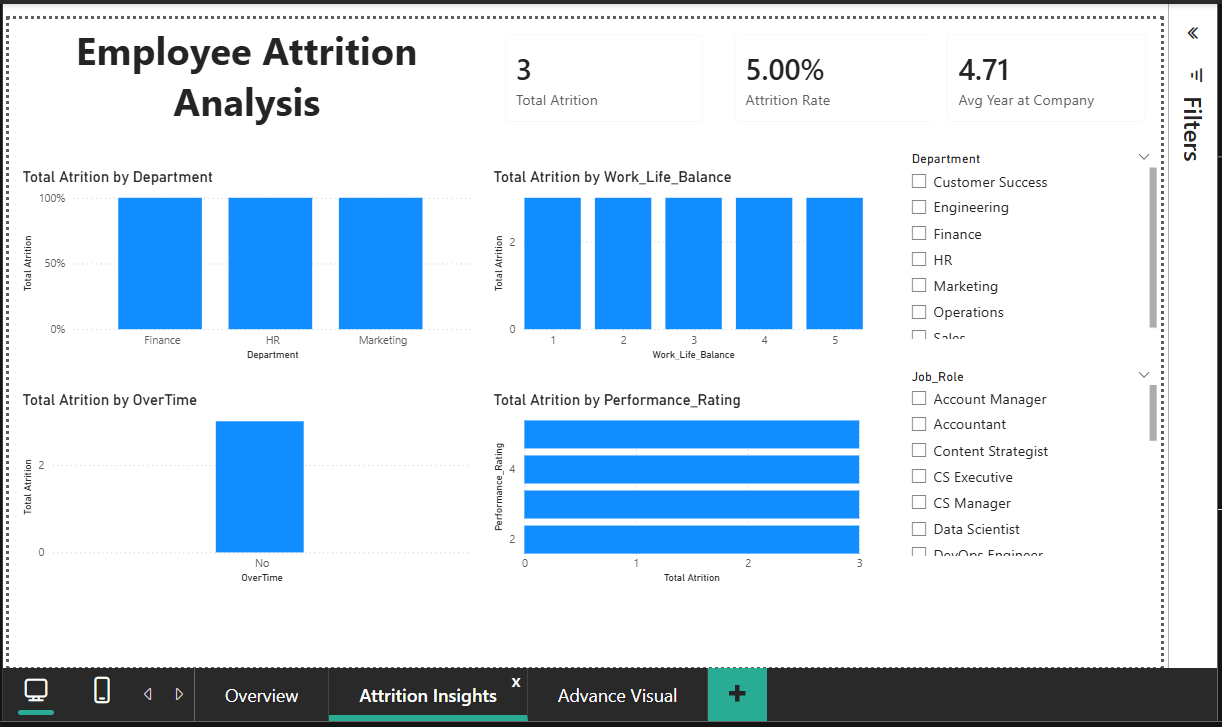

This screenshot's page, from the dashboard's own definition file:
{"tool":"powerbi","page":{"name":"Attrition Insights","canvas":[1280,720],"ordinal":1},"visuals":[{"type":"textbox","box":[10,0,508.3,131.7],"z":0},{"type":"cardVisual","fields":{"Data":["Fact_Attrition.Total Atrition"]},"box":[533.3,0,255,131.7],"z":1},{"type":"cardVisual","fields":{"Data":["Fact_Attrition.Attrition Rate"]},"box":[788.3,0,255,131.7],"z":2},{"type":"cardVisual","fields":{"Data":["Fact_Attrition.Avg Year at Company"]},"box":[1025,0,255,131.7],"z":3},{"type":"hundredPercentStackedColumnChart","fields":{"Category":["DIm_Employee.Department"],"Y":["Fact_Attrition.Total Atrition"]},"box":[10,165,508.3,218.3],"z":4},{"type":"clusteredColumnChart","fields":{"Y":["Fact_Attrition.Total Atrition"],"Category":["Fact_Attrition.OverTime"]},"box":[10,414,508,218],"z":5},{"type":"columnChart","fields":{"Y":["Fact_Attrition.Total Atrition"],"Category":["Dim_Satisfaction.Work_Life_Balance"]},"box":[533.3,165,420,218.3],"z":6},{"type":"clusteredBarChart","fields":{"Y":["Fact_Attrition.Total Atrition"],"Category":["Dim_Performance.Performance_Rating"]},"box":[533.3,413.3,420,218.3],"z":7},{"type":"slicer","fields":{"Values":["DIm_Employee.Department"]},"box":[990,141.7,290,218.3],"z":8},{"type":"slicer","fields":{"Values":["DIm_Employee.Job_Role"]},"box":[990,383.3,290,218.3],"z":9}]}

Visuals, with their boxes on the page's 1280x720 design canvas (x1, y1, x2, y2). These are canvas units, not pixel positions in the 1222x727 screenshot, which may show the page scaled, cropped or inside an application window:
textbox: rect(10, 0, 518, 132)
cardVisual - Fact_Attrition.Total Atrition: rect(533, 0, 788, 132)
cardVisual - Fact_Attrition.Attrition Rate: rect(788, 0, 1043, 132)
cardVisual - Fact_Attrition.Avg Year at Company: rect(1025, 0, 1280, 132)
hundredPercentStackedColumnChart - DIm_Employee.Department x Fact_Attrition.Total Atrition: rect(10, 165, 518, 383)
clusteredColumnChart - Fact_Attrition.Total Atrition x Fact_Attrition.OverTime: rect(10, 414, 518, 632)
columnChart - Fact_Attrition.Total Atrition x Dim_Satisfaction.Work_Life_Balance: rect(533, 165, 953, 383)
clusteredBarChart - Fact_Attrition.Total Atrition x Dim_Performance.Performance_Rating: rect(533, 413, 953, 632)
slicer - DIm_Employee.Department: rect(990, 142, 1280, 360)
slicer - DIm_Employee.Job_Role: rect(990, 383, 1280, 602)
